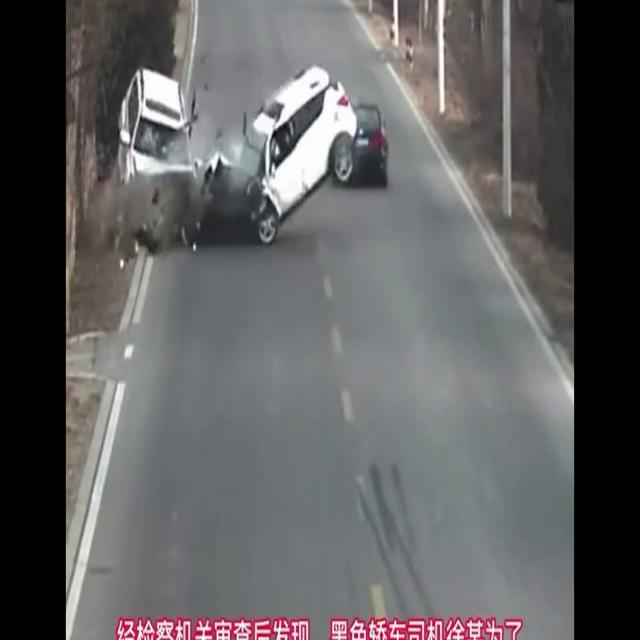accident: (116, 65, 360, 247)
